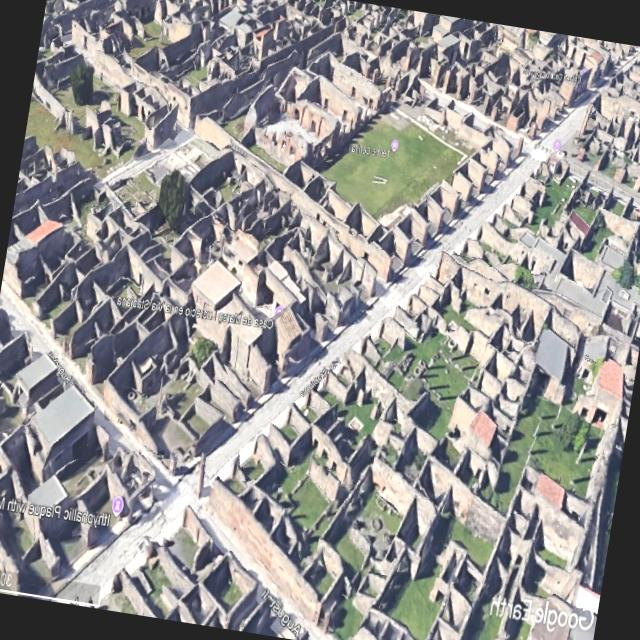objects-ruins-artifacts: (338, 111, 640, 524), (54, 10, 323, 292), (4, 365, 294, 588)
